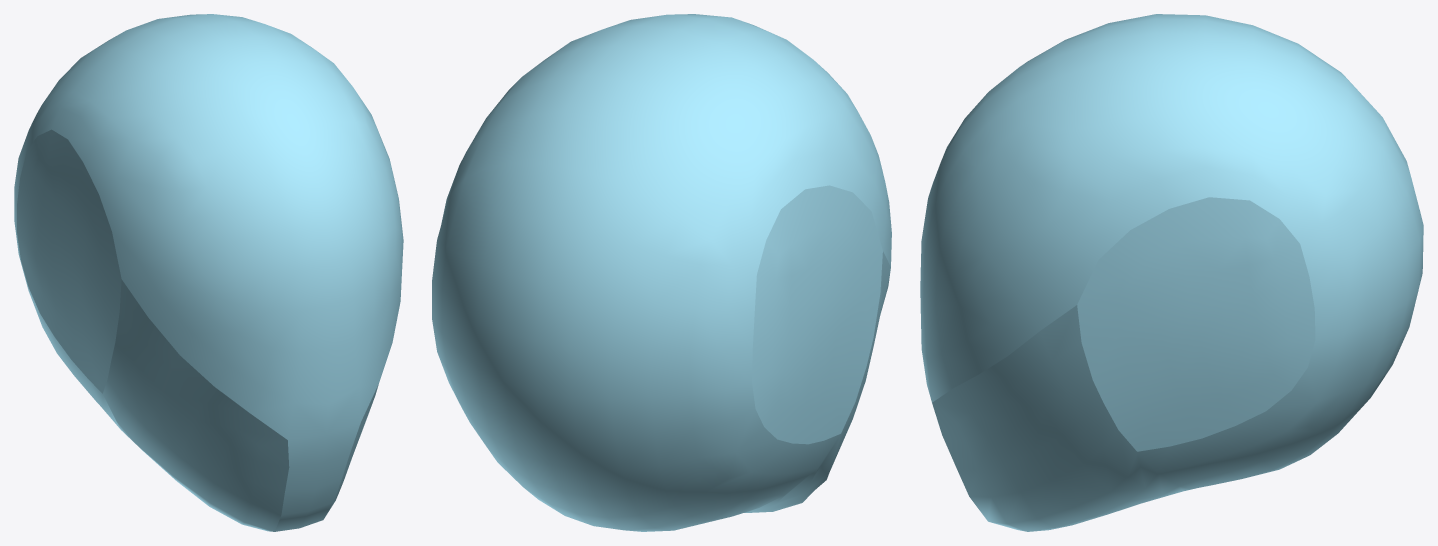
The model's file is Tete.fbx.
3 views of the same model, side by side, from view 1: azimuth 30°, elevation 25°; view 2: azimuth 150°, elevation 25°; view 3: azimuth 270°, elevation 25° (orthographic). The views are drawn at different scales.
Parts seen in each view (by area): view 1: Beta_HighTorsoGeo; view 2: Beta_HighTorsoGeo; view 3: Beta_HighTorsoGeo.
Part boxes in pixels (x1,y1,x2,y2): Beta_HighTorsoGeo: [14, 14, 403, 531]; Beta_HighTorsoGeo: [432, 14, 891, 531]; Beta_HighTorsoGeo: [920, 14, 1423, 531].
Bounding box in the file's own units: 17.61 × 26.65 × 24.85.
